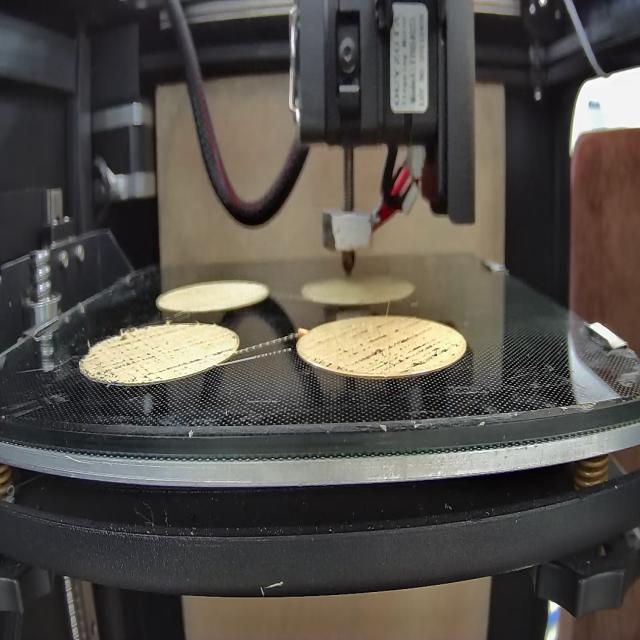under_extrusion: (313, 326, 462, 371), (90, 330, 202, 383), (209, 337, 235, 362)
